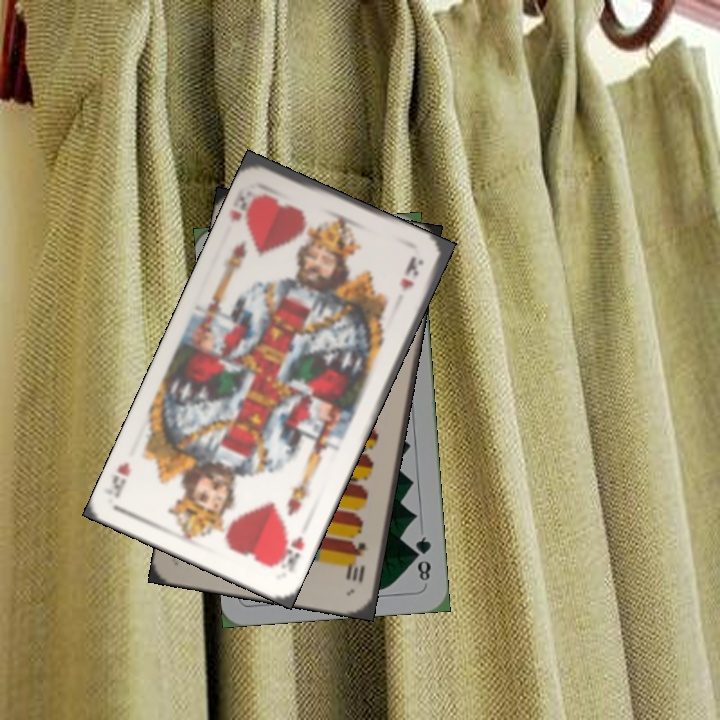E10: (344, 538, 369, 585)
G8: (410, 532, 434, 584)
HK: (226, 189, 265, 229), (272, 532, 307, 575)
